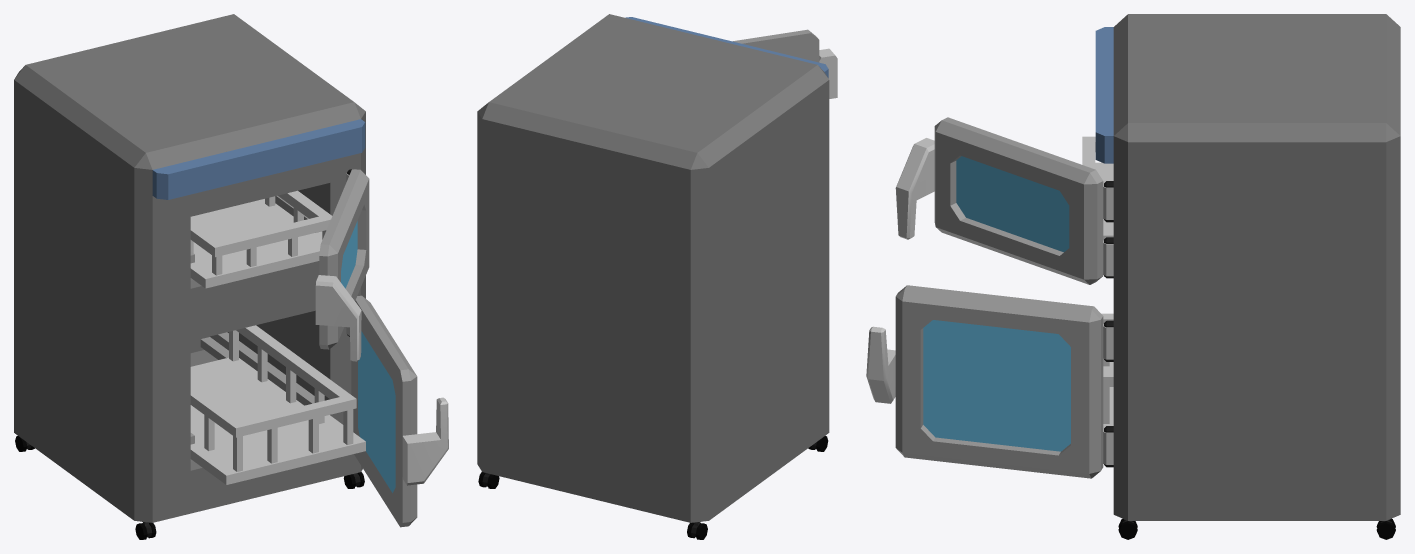
The model's file is Warming Cabinet 02.fbx.
3 renders of one model, left to right at view 1: azimuth 30°, elevation 25°; view 2: azimuth 150°, elevation 25°; view 3: azimuth 270°, elevation 25°, orthographic. The views are drawn at different scales.
Visible parts, largest first — view 1: Warming_Cabinet_02; view 2: Warming_Cabinet_02; view 3: Warming_Cabinet_02.
Boxes of the visible parts, <box> form: Warming_Cabinet_02: <box>14,14,448,539</box>; Warming_Cabinet_02: <box>477,14,837,539</box>; Warming_Cabinet_02: <box>866,14,1400,539</box>.
Size of the model in its own units: 121 by 193 by 226.
